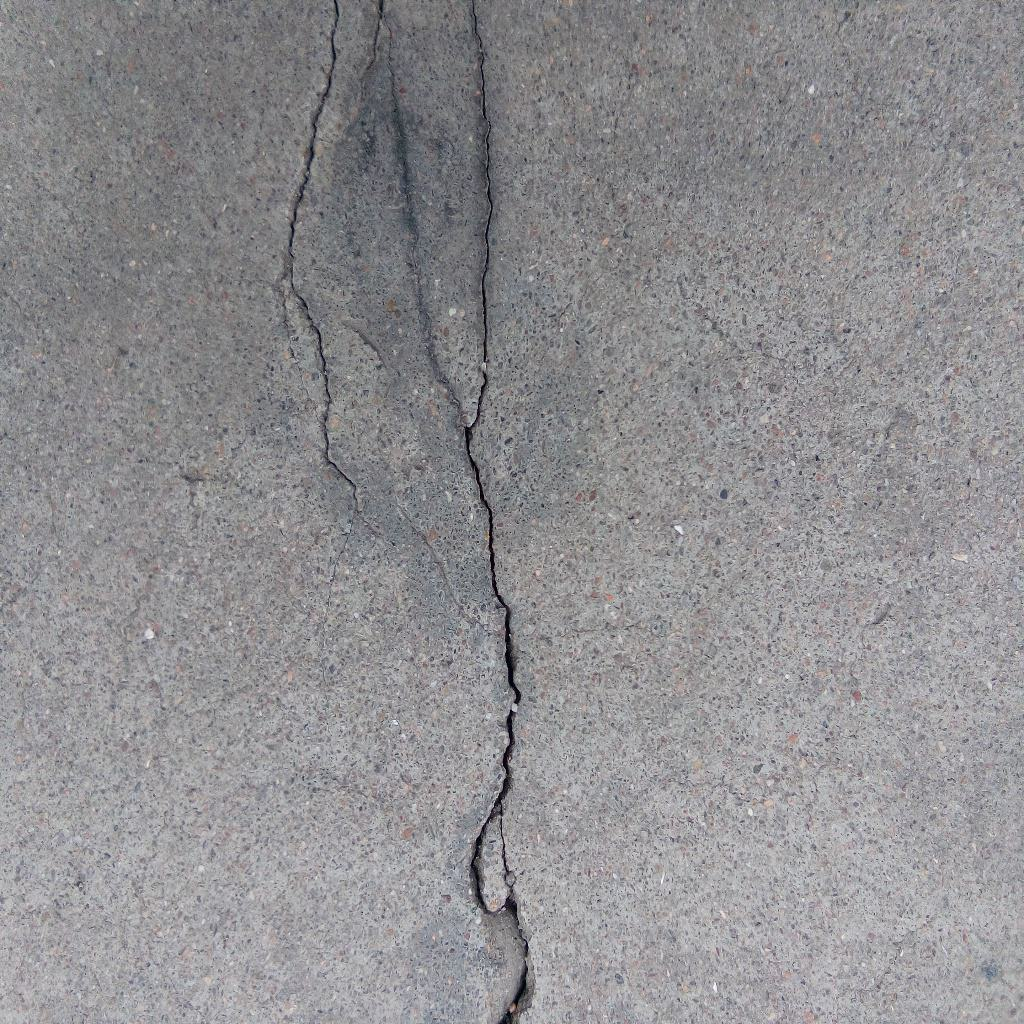Crack: (463, 1, 529, 1024), (287, 1, 359, 506), (365, 1, 386, 71)
